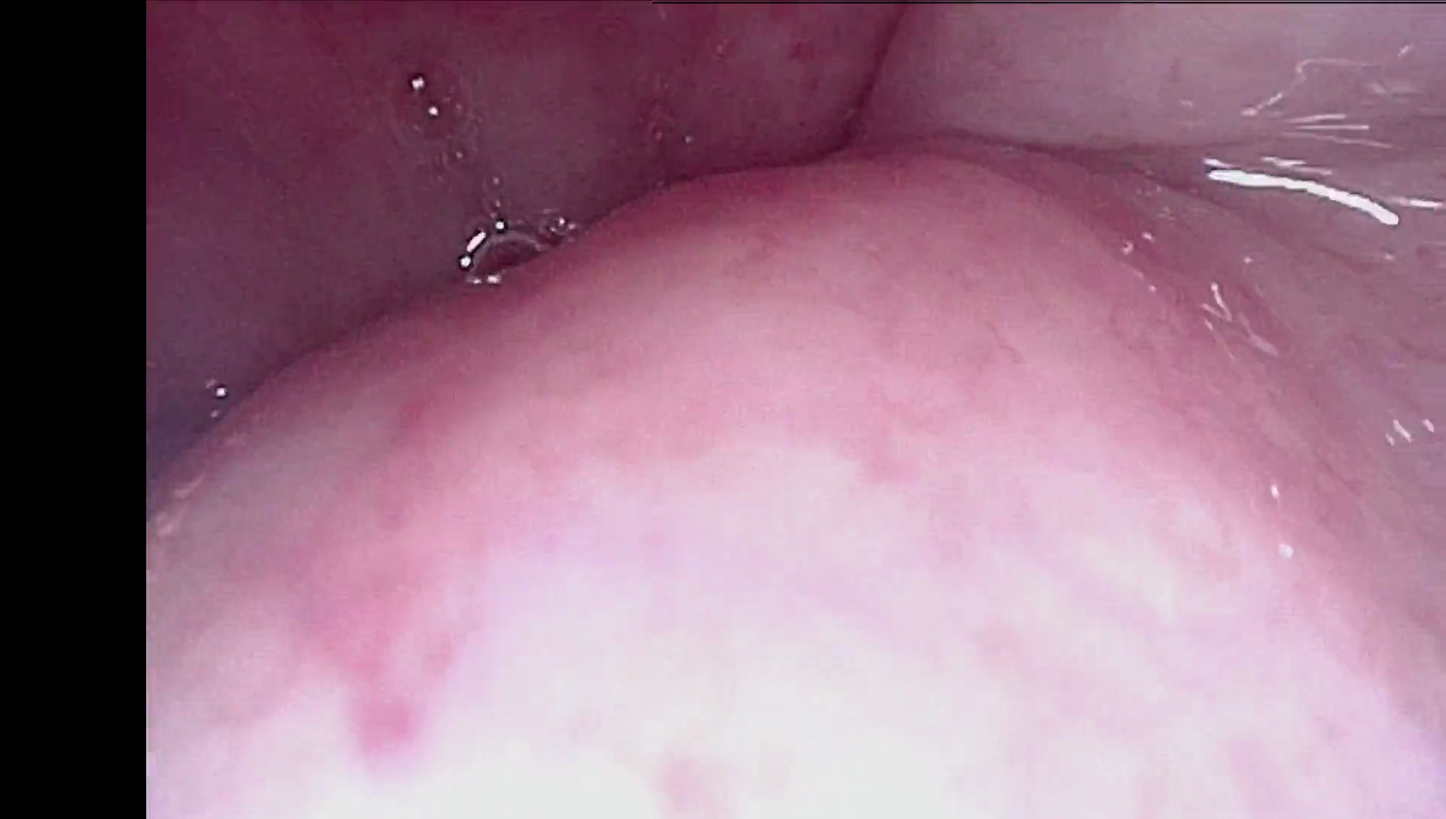close_wall: (170, 206, 1446, 819)
